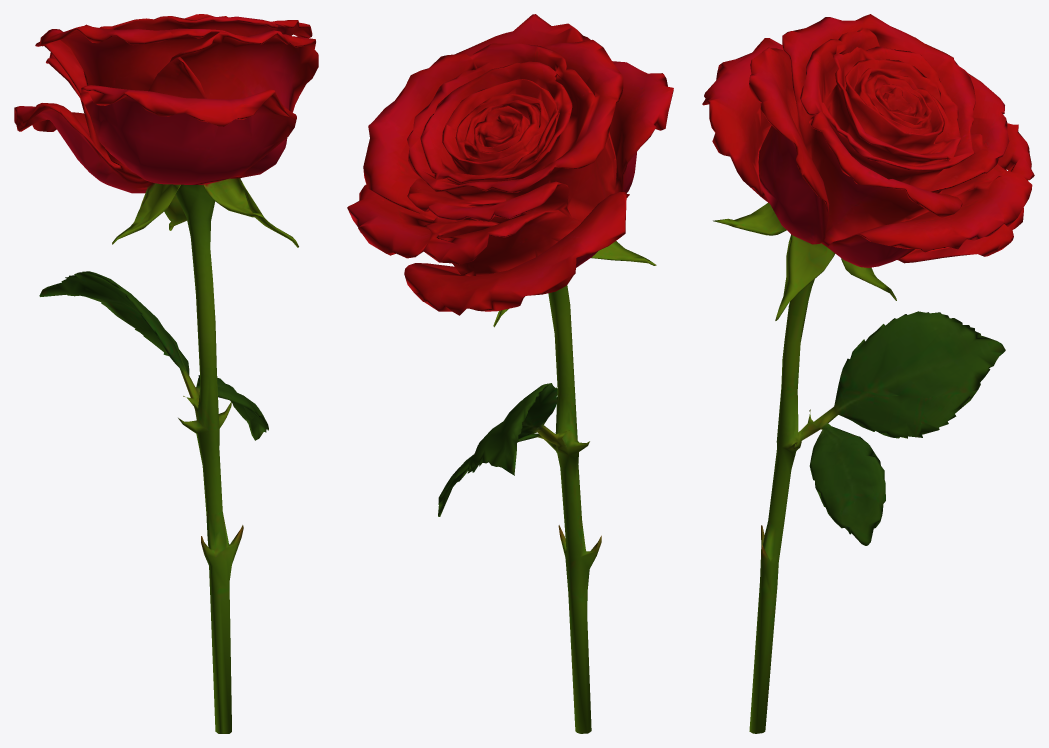
Rendered from red_rose_bloom.glb.
3 renders of one model, left to right at view 1: azimuth 30°, elevation 25°; view 2: azimuth 150°, elevation 25°; view 3: azimuth 270°, elevation 25°, orthographic. The views are drawn at different scales.
Visible parts, largest first — view 1: tripo_node_08776dde-d7ac-425a-9d7c-232be976d18d; view 2: tripo_node_08776dde-d7ac-425a-9d7c-232be976d18d; view 3: tripo_node_08776dde-d7ac-425a-9d7c-232be976d18d.
Boxes of the visible parts, x1,y1,x2,y2 form: tripo_node_08776dde-d7ac-425a-9d7c-232be976d18d: (14,14,318,733); tripo_node_08776dde-d7ac-425a-9d7c-232be976d18d: (347,14,673,733); tripo_node_08776dde-d7ac-425a-9d7c-232be976d18d: (702,14,1034,733).
Bounding box in the file's own units: 0.3886 × 0.9978 × 0.4395.
Materials: 1 (1 with a texture image).
